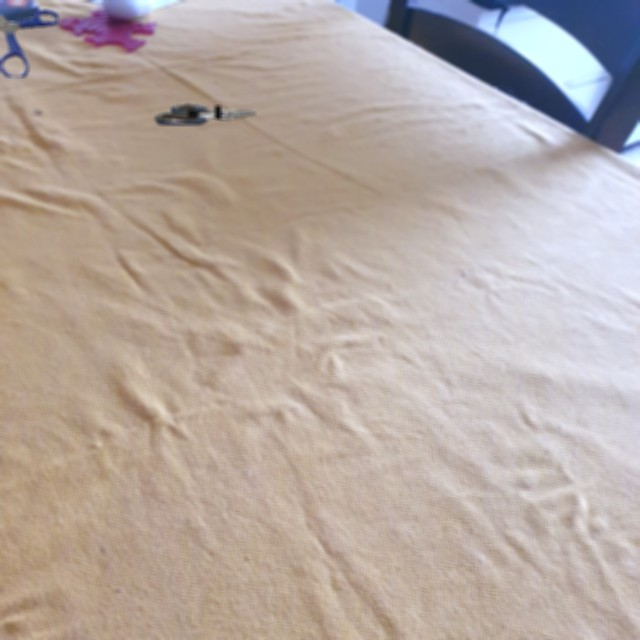scissors: (0, 8, 58, 77), (155, 104, 256, 125)
